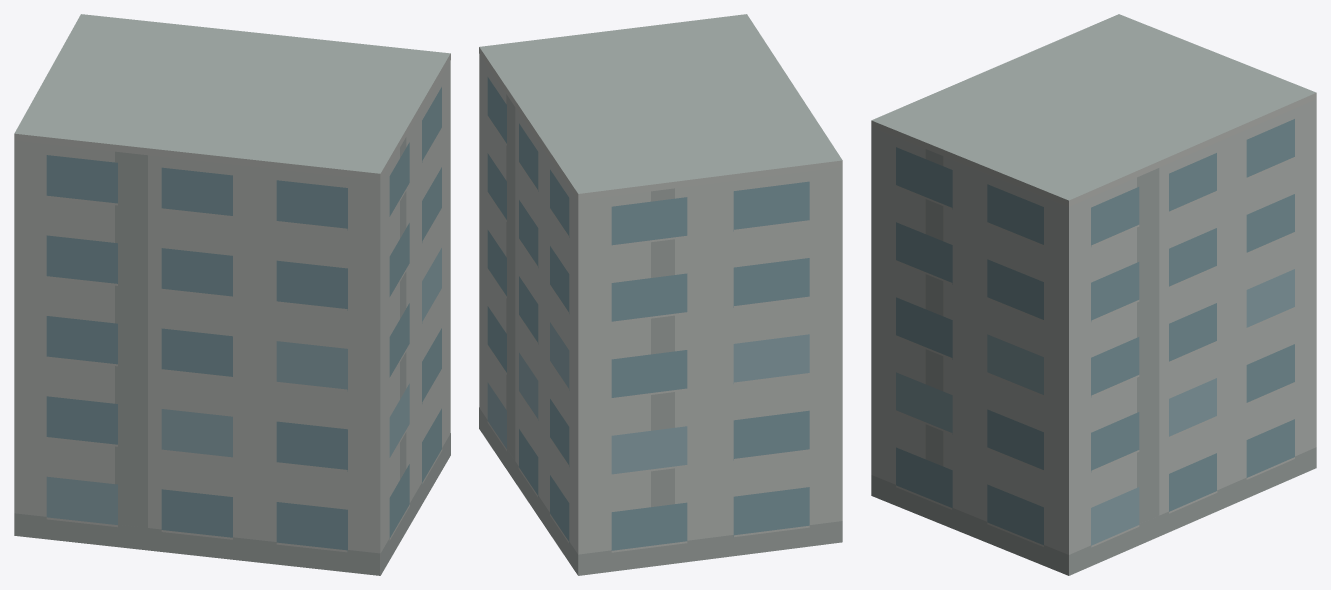
The model's file is survey-upis-32890844.glb.
3 renders of one model, left to right at view 1: azimuth 30°, elevation 25°; view 2: azimuth 150°, elevation 25°; view 3: azimuth 270°, elevation 25°, orthographic. The views are drawn at different scales.
Parts seen in each view (by area): view 1: survey-upis-32890844.tmp; view 2: survey-upis-32890844.tmp; view 3: survey-upis-32890844.tmp.
Part boxes in pixels (left/top/right/bottom): survey-upis-32890844.tmp: left=14, top=14, right=450, bottom=575; survey-upis-32890844.tmp: left=479, top=14, right=842, bottom=575; survey-upis-32890844.tmp: left=871, top=14, right=1316, bottom=575.
Size of the model in its own units: 14.96 by 14.02 by 15.09.
